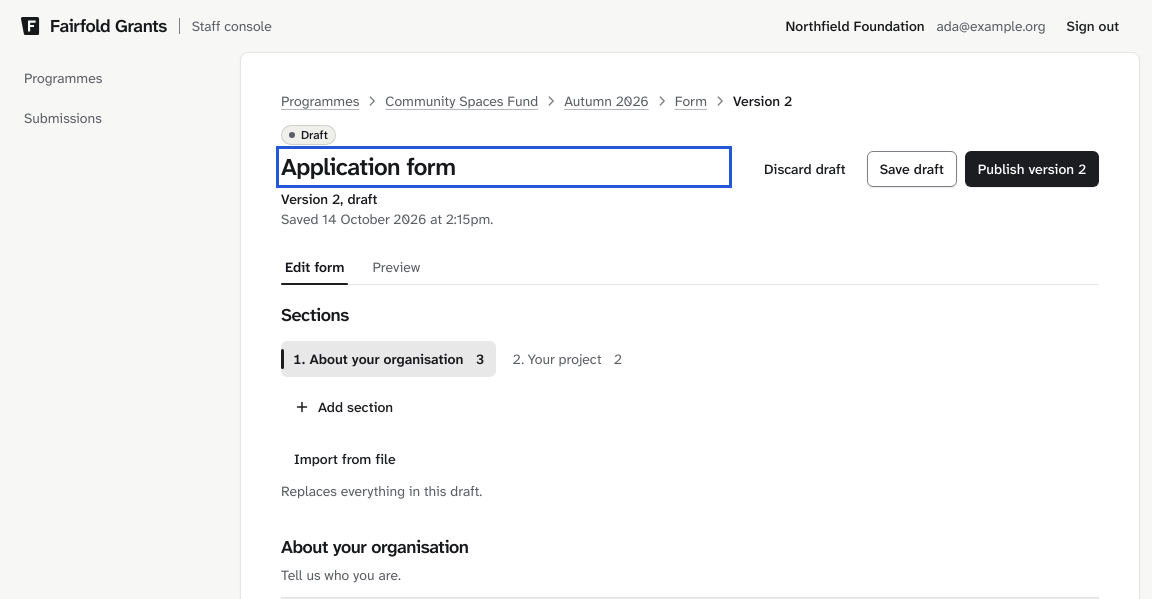
the preview of a draft › shows the form as an applicant sees it, a section at a time, in the same words
expect the heading "Application form" is shown: met, box [281,151,455,183]
expect the text "Version 2, draft" is shown: met, box [281,190,377,208]
Click the tab "Preview": (396, 267) [368,249,424,285]
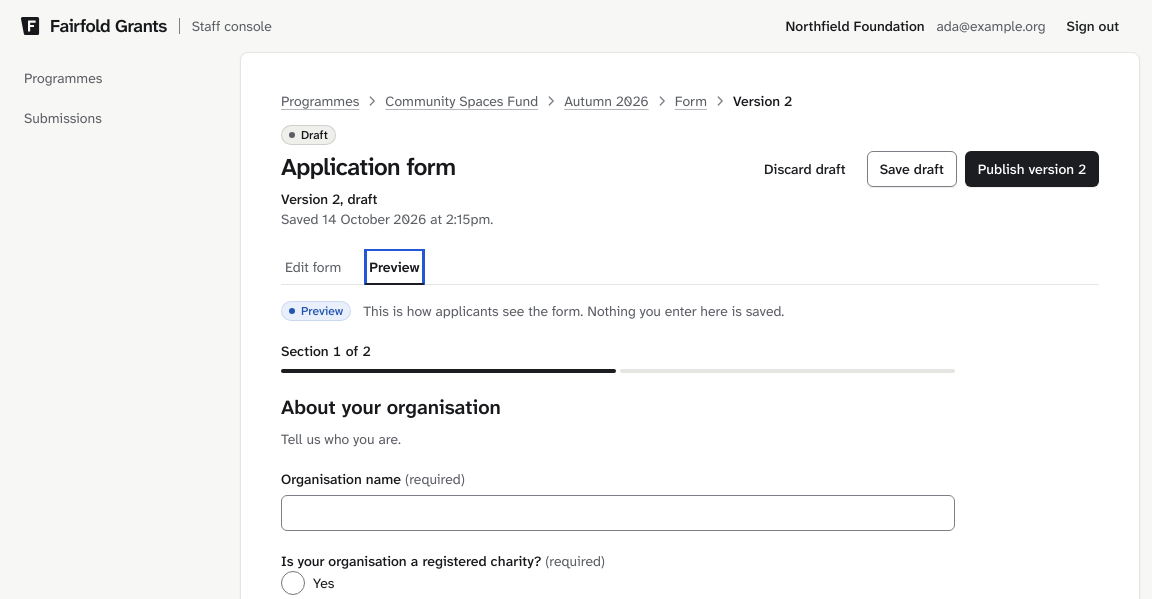
expect the text "Nothing you enter here is saved" is shown: met, box [363,302,784,320]
expect the text "Section 1 of 2" is shown: met, box [281,342,371,360]
expect the field labelled "Organisation name (required)" is shown: met, box [281,495,955,531]
